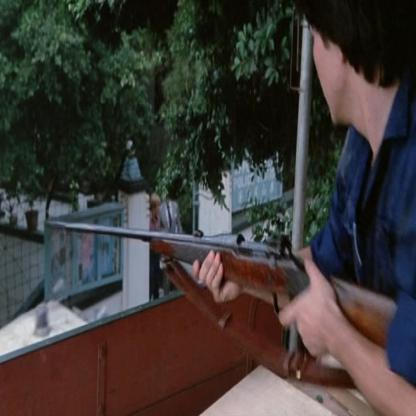gun: (42, 187, 396, 350)
